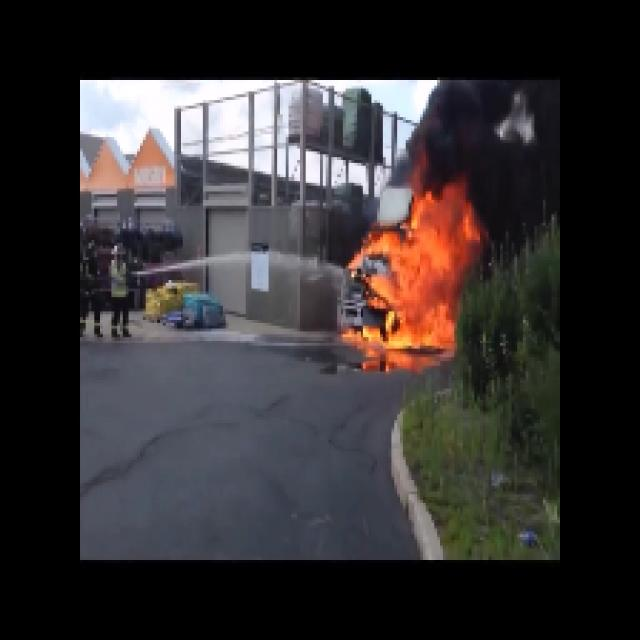fire: (369, 213, 459, 350)
smoke: (436, 86, 568, 186)
